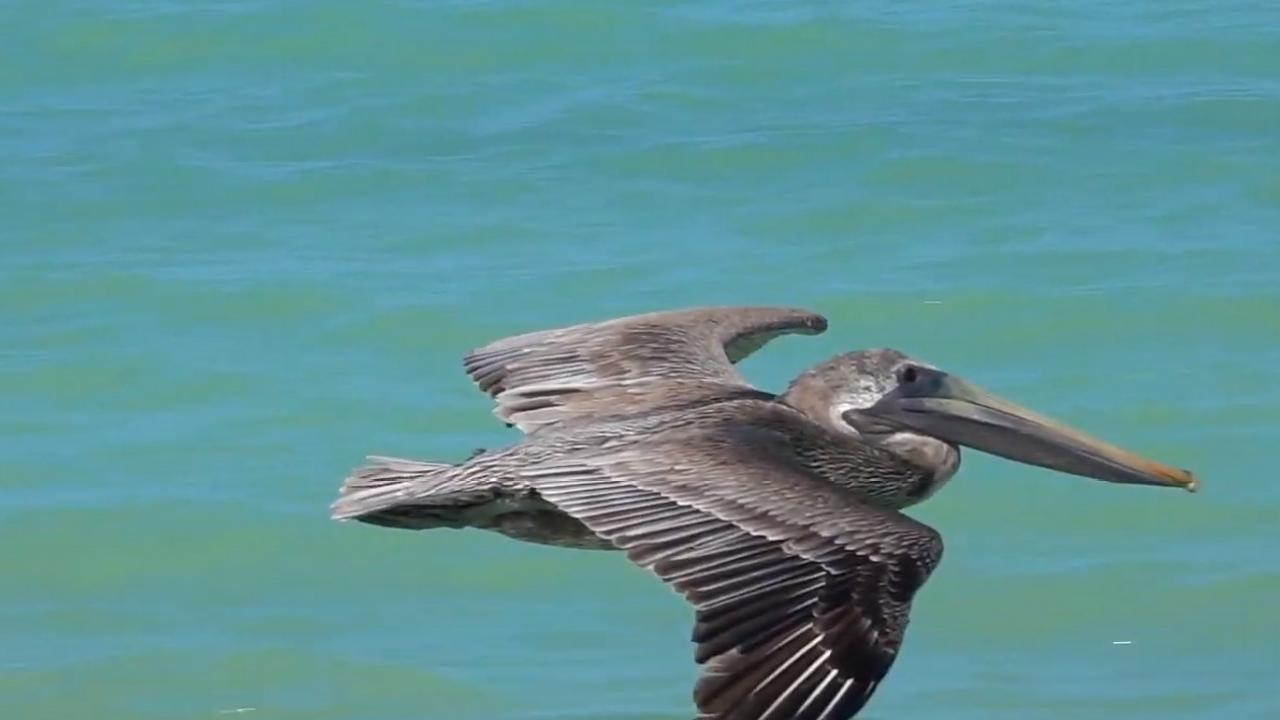Bird: (314, 297, 1207, 720)
